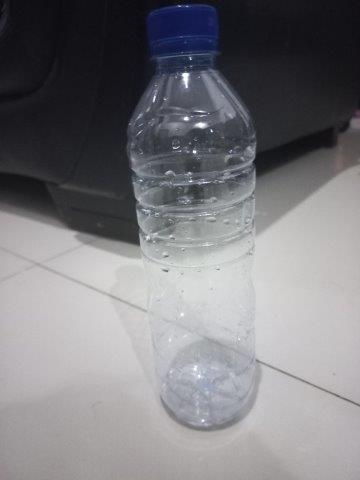botolplastik: (127, 5, 260, 429)
